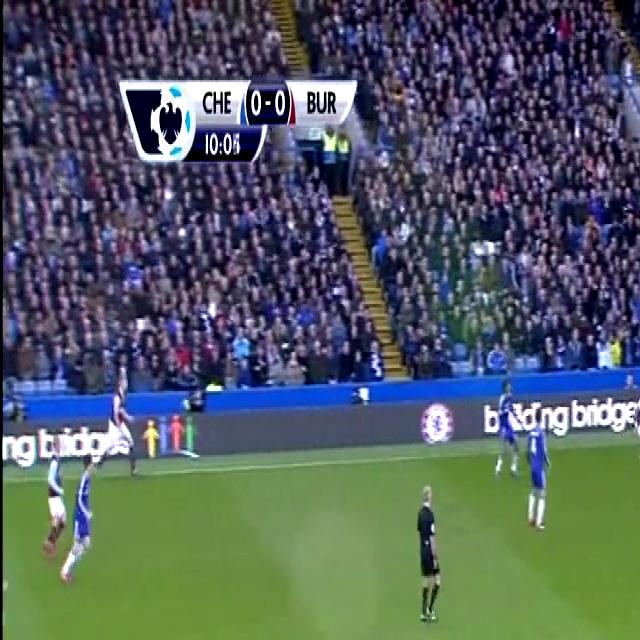referee: (409, 472, 452, 630)
soccer-player: (97, 360, 140, 480), (520, 403, 559, 527), (67, 454, 100, 589), (491, 373, 526, 484), (42, 441, 69, 557), (628, 373, 640, 475)
